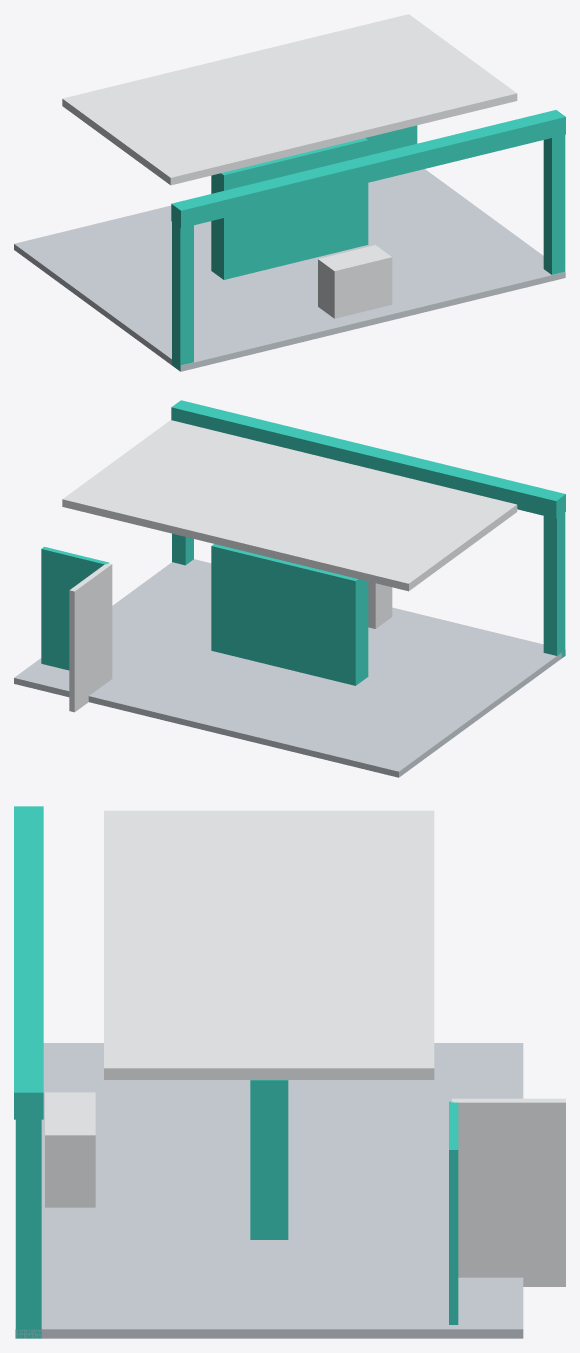
The picture shows the model from 3 angles, top to bottom: view 1: azimuth 30°, elevation 25°; view 2: azimuth 150°, elevation 25°; view 3: azimuth 270°, elevation 25°; orthographic projection. The views are drawn at different scales.
Parts seen in each view (by area): view 1: Exhibition Booth Concept; view 2: Exhibition Booth Concept; view 3: Exhibition Booth Concept.
Part boxes in pixels (x1=…): Exhibition Booth Concept: x1=14, y1=14, x2=565, y2=371; Exhibition Booth Concept: x1=14, y1=400, x2=565, y2=777; Exhibition Booth Concept: x1=14, y1=806, x2=565, y2=1338.
Size of the model in its own units: 8 by 3.34 by 6.52.
